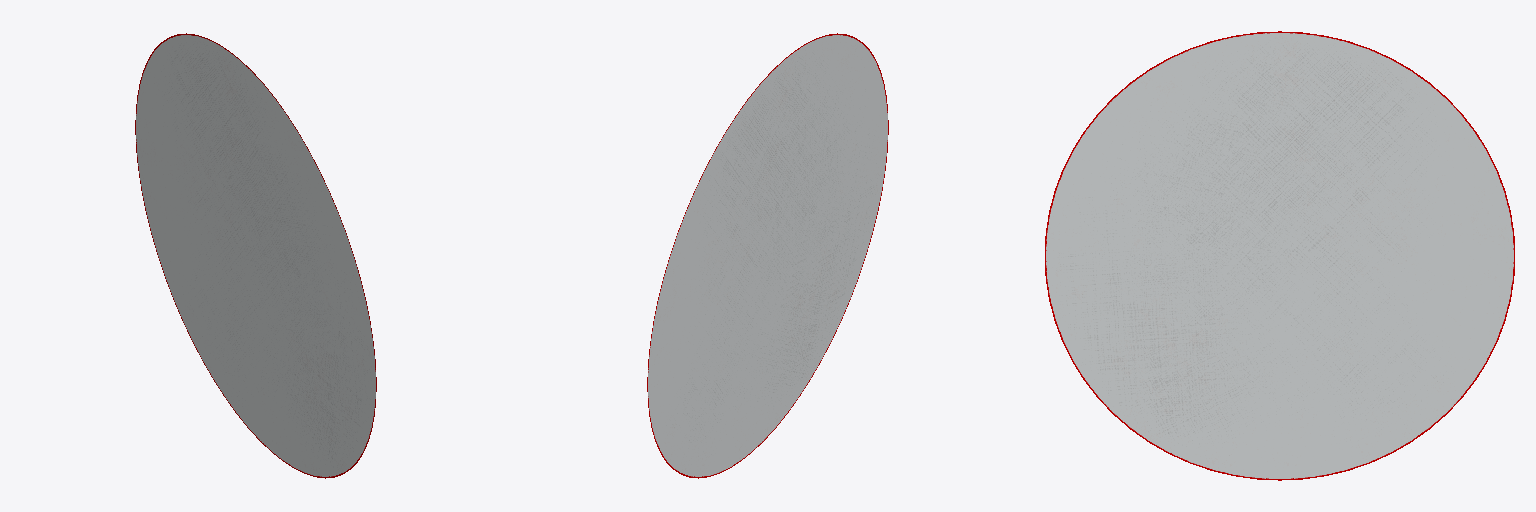
3 renders of one model, left to right at view 1: azimuth 30°, elevation 25°; view 2: azimuth 150°, elevation 25°; view 3: azimuth 270°, elevation 25°, orthographic.
Parts seen in each view (by area): view 1: drumsetV4_BigDrumBack_Cylinder.011; view 2: drumsetV4_BigDrumBack_Cylinder.011; view 3: drumsetV4_BigDrumBack_Cylinder.011.
Boxes of the visible parts, box(x1,y1,x2,y2) form: drumsetV4_BigDrumBack_Cylinder.011: box(135, 33, 376, 478); drumsetV4_BigDrumBack_Cylinder.011: box(647, 33, 888, 478); drumsetV4_BigDrumBack_Cylinder.011: box(1045, 31, 1514, 480).
Bounding box in the file's own units: 0.2413 × 1.84 × 1.85.
Materials: 1 (1 with a texture image).